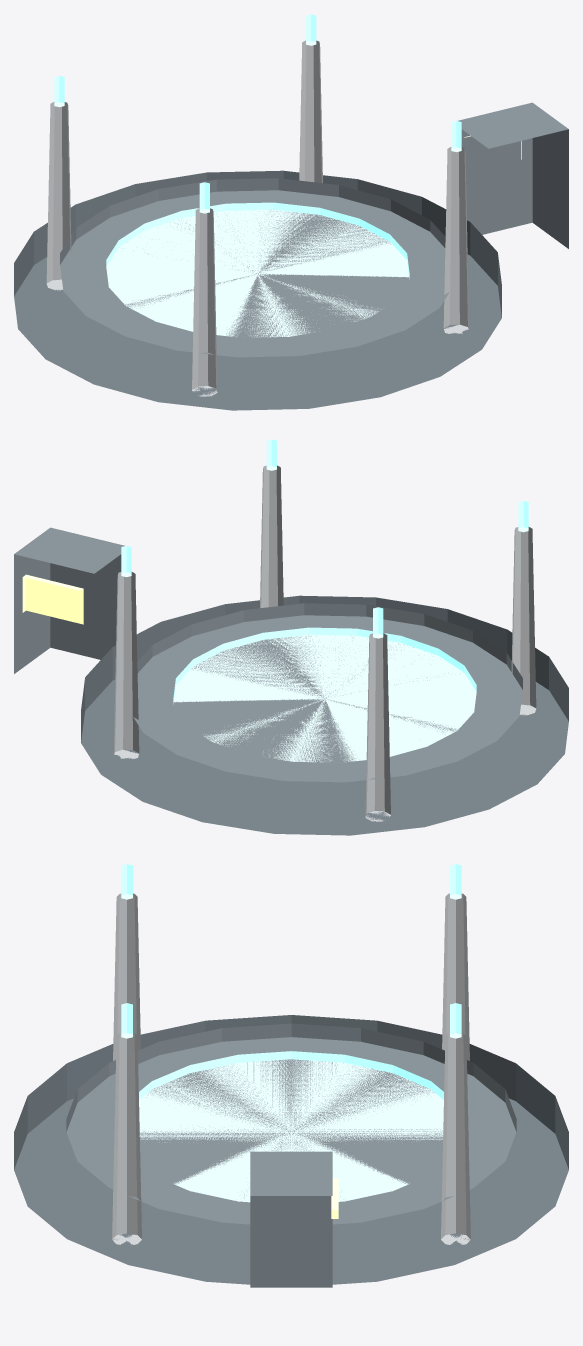
The model's file is teleport.glb.
The picture shows the model from 3 angles, top to bottom: view 1: azimuth 30°, elevation 25°; view 2: azimuth 150°, elevation 25°; view 3: azimuth 270°, elevation 25°; orthographic projection. The views are drawn at different scales.
Visible parts, largest first — view 1: VH_Teleport; view 2: VH_Teleport; view 3: VH_Teleport.
Part boxes in pixels (<box>): VH_Teleport: <box>14,14,568,410</box>; VH_Teleport: <box>14,439,568,835</box>; VH_Teleport: <box>14,864,568,1287</box>.
Size of the model in its own units: 4.4 by 1.72 by 3.7.
